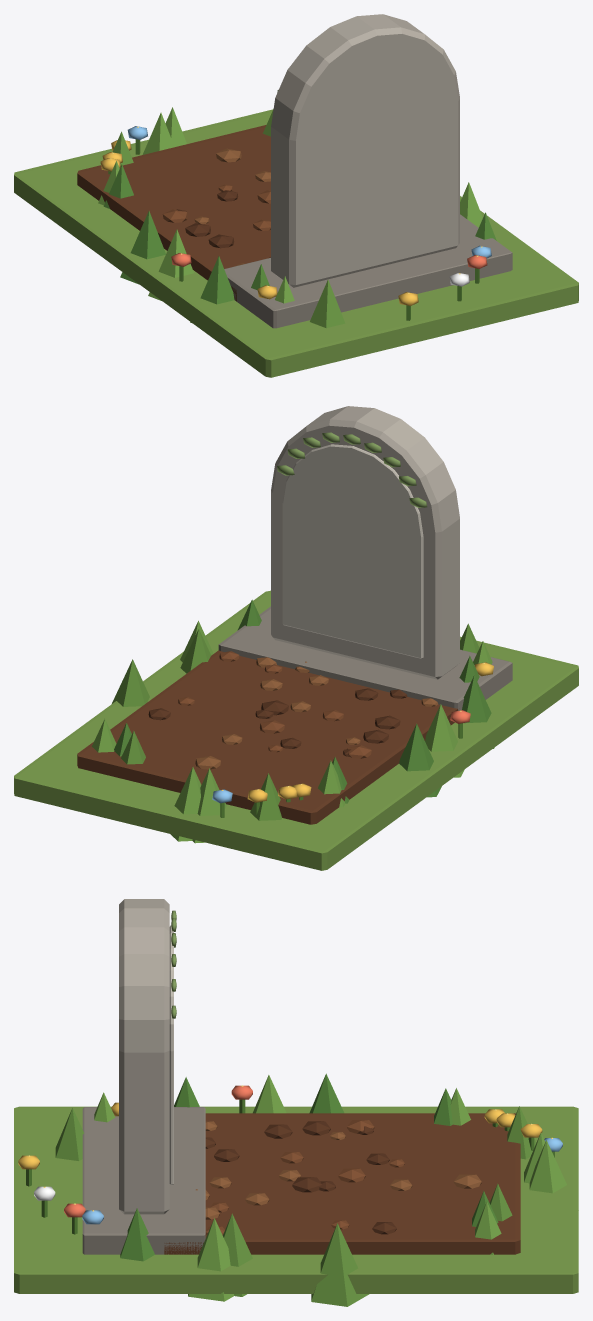
The model's file is gravestone_arch.glb.
The picture shows the model from 3 angles, top to bottom: view 1: azimuth 30°, elevation 25°; view 2: azimuth 150°, elevation 25°; view 3: azimuth 270°, elevation 25°; orthographic projection. The views are drawn at different scales.
Parts seen in each view (by area): view 1: gravestone_arch; view 2: gravestone_arch; view 3: gravestone_arch.
Part boxes in pixels (bbox=[...]): gravestone_arch: bbox=[14, 14, 578, 377]; gravestone_arch: bbox=[14, 406, 578, 870]; gravestone_arch: bbox=[14, 899, 578, 1306].
Size of the model in its own units: 1.15 by 0.938 by 1.56.
